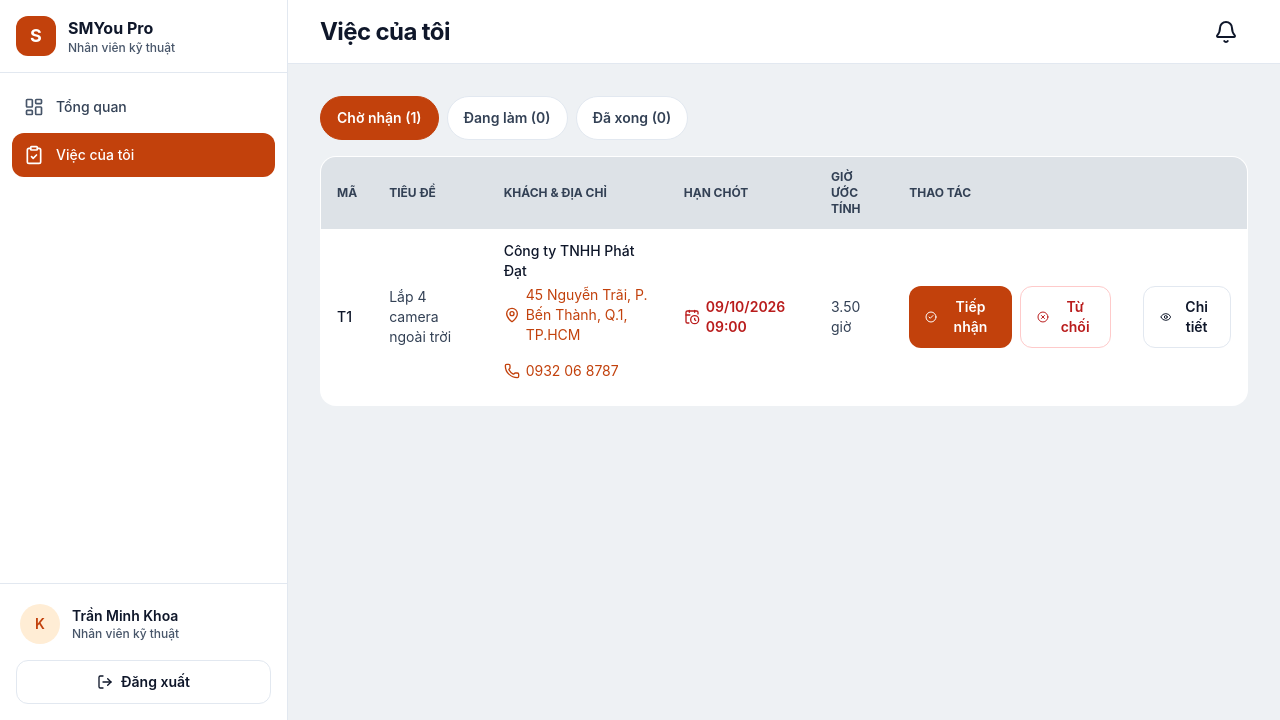
Test case: Việc của tôi › AC-ASG-037 bấm Từ chối: mở Sheet, 5 lý do, Xác nhận disabled tới khi hợp lệ
Check: the text "T1" is shown, box [320, 229, 373, 406]
Step 1. Click the button "Từ chối" → (1065, 317), box [1020, 286, 1111, 348]
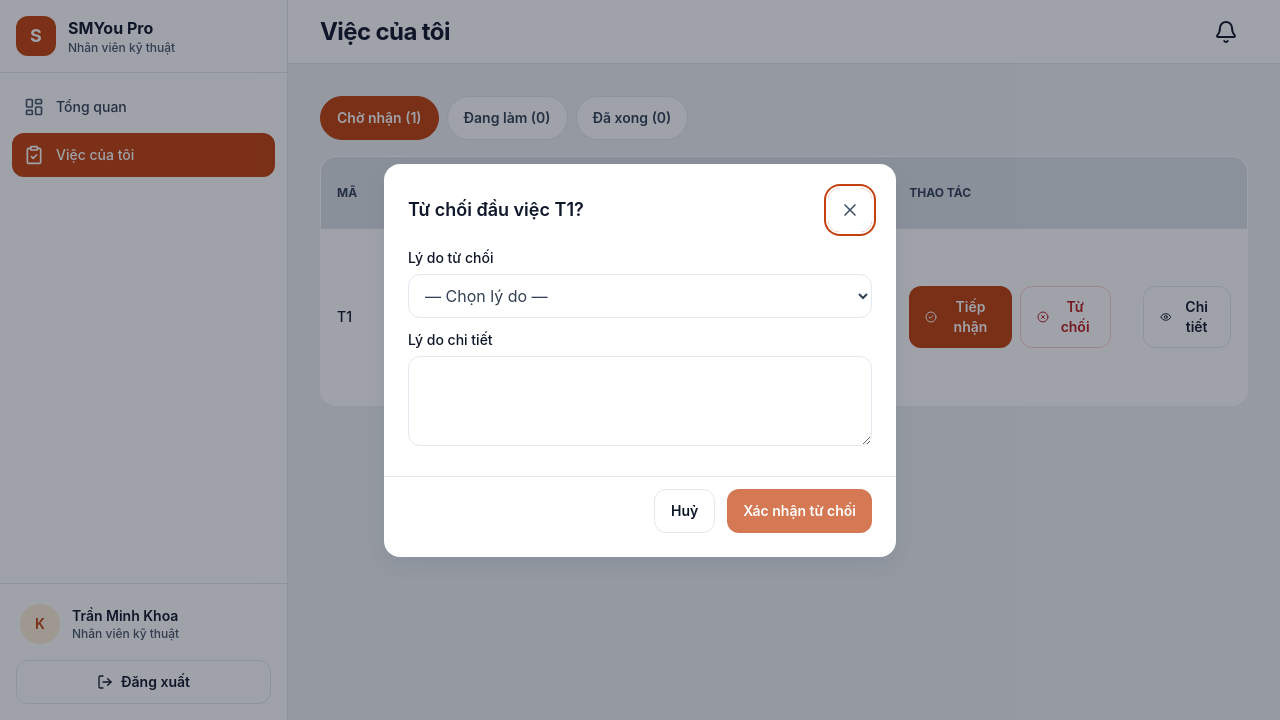
Check: the button "Xác nhận từ chối" is disabled, box [727, 488, 872, 532]
Step 2. Select "Địa điểm quá xa / không di chuyển được" in the dropdown labelled "Lý do từ chối" → (640, 296), box [408, 274, 872, 318]
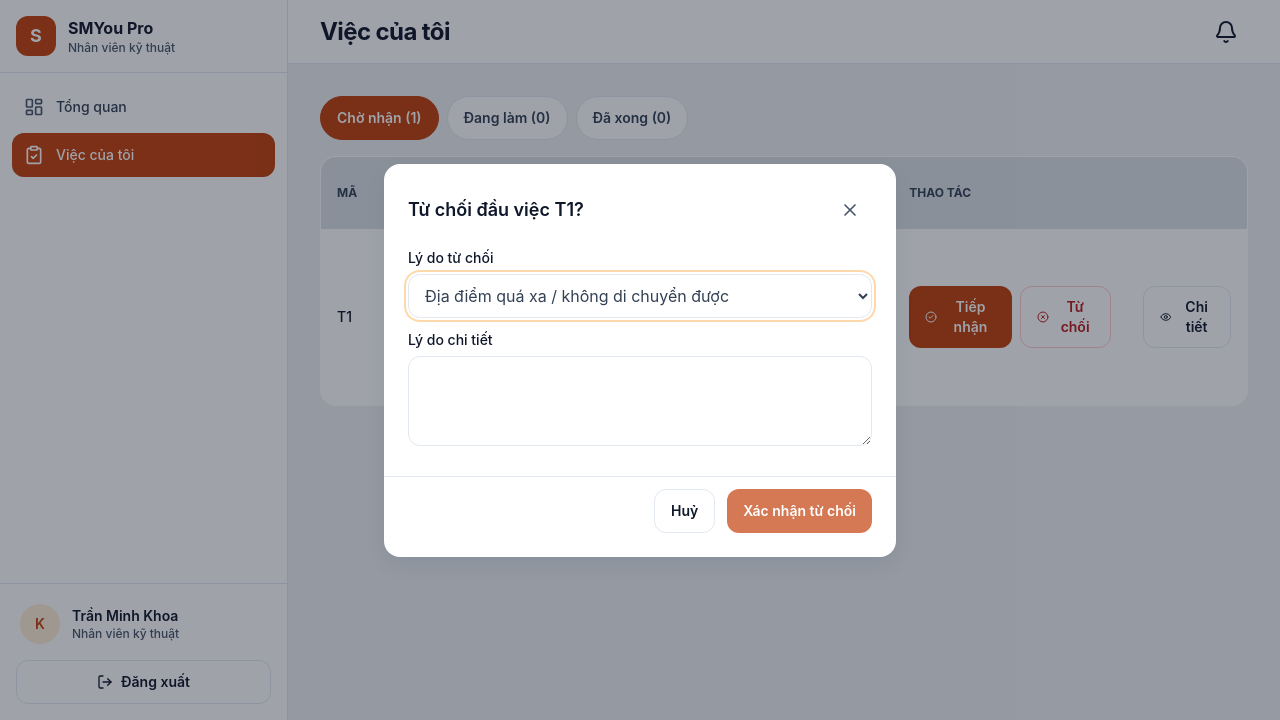
Check: the button "Xác nhận từ chối" is disabled, box [727, 488, 872, 532]
Step 3. Type "xa" into the text box labelled "Lý do chi tiết" → (640, 400), box [408, 356, 872, 446]
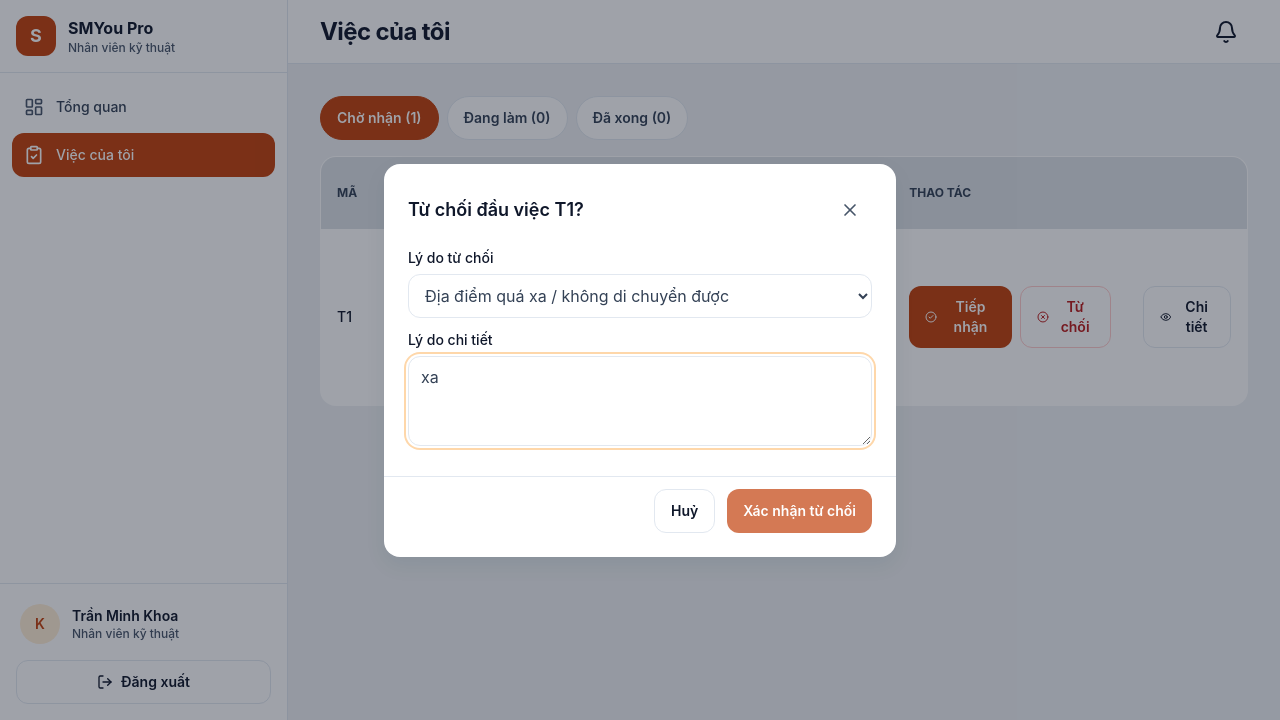
Check: the button "Xác nhận từ chối" is disabled, box [727, 488, 872, 532]
Step 4. Type " quá, không kịp" into the text box labelled "Lý do chi tiết" → (640, 400), box [408, 356, 872, 446]
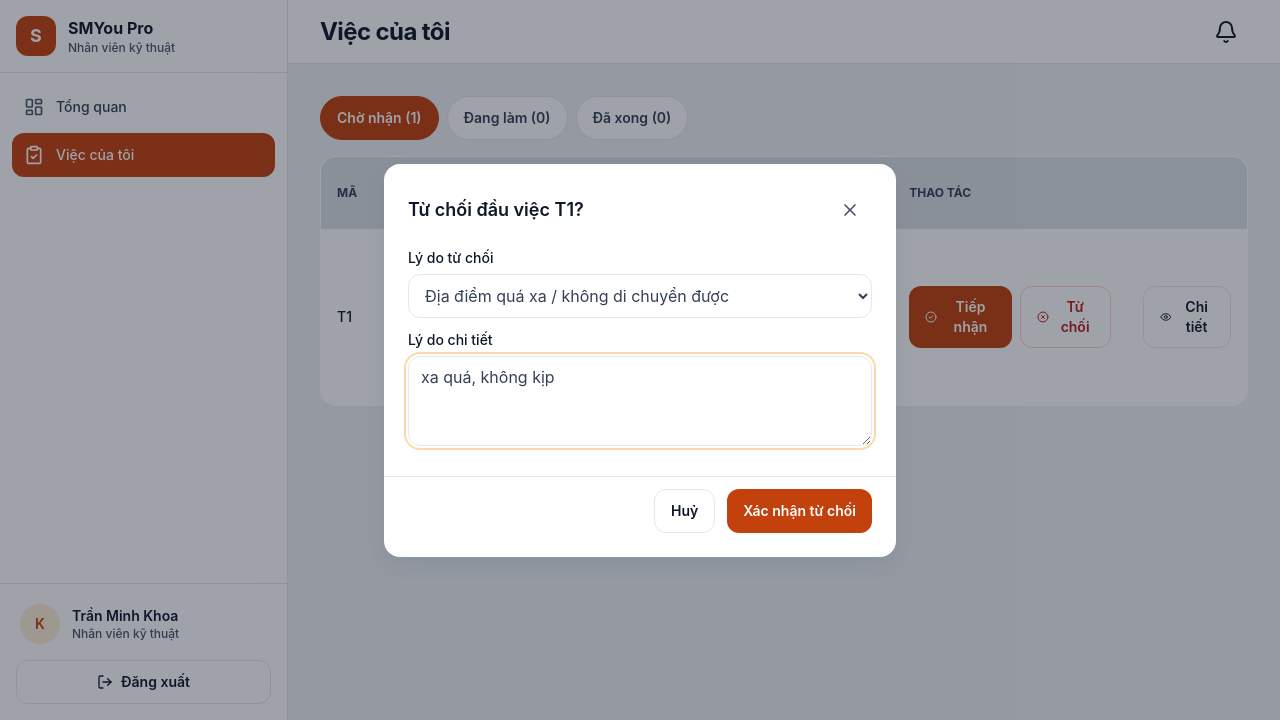
Check: the button "Xác nhận từ chối" is enabled, box [727, 488, 872, 532]
